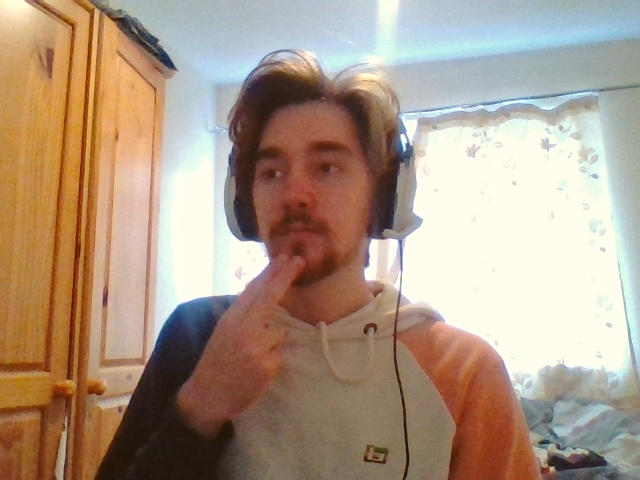afternoon: (185, 253, 306, 412)
